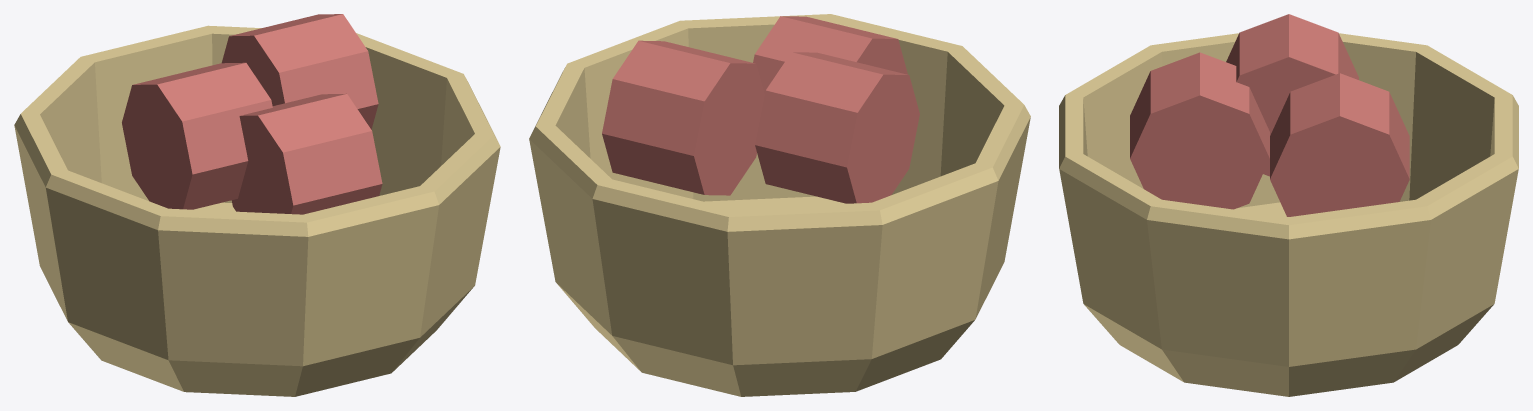
Rendered from prop-yarn-basket.fbx.
3 views of the same model, side by side, from view 1: azimuth 30°, elevation 25°; view 2: azimuth 150°, elevation 25°; view 3: azimuth 270°, elevation 25° (orthographic). The views are drawn at different scales.
Visible parts, largest first — view 1: prop-yarn-basket; view 2: prop-yarn-basket; view 3: prop-yarn-basket.
Boxes of the visible parts, x1,y1,x2,y2 form: prop-yarn-basket: [14, 14, 500, 396]; prop-yarn-basket: [529, 14, 1030, 396]; prop-yarn-basket: [1059, 14, 1518, 396].
Size of the model in its own units: 38 by 22.5 by 36.14.
